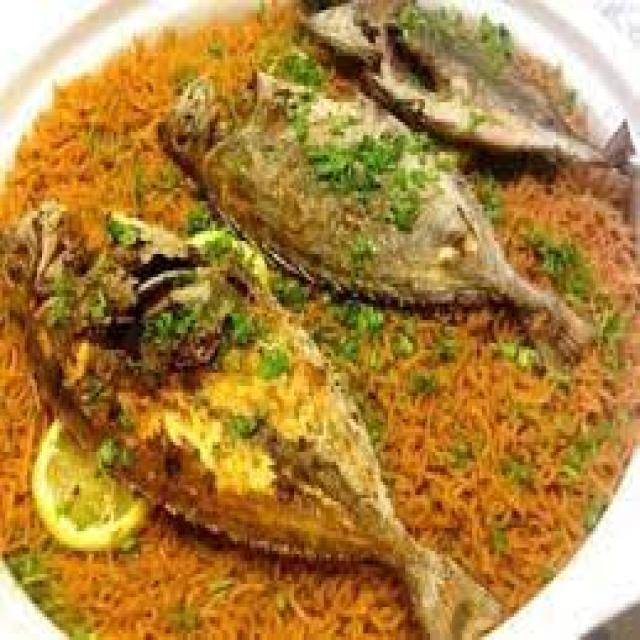Peixe: (0, 0, 638, 637), (155, 53, 596, 366), (292, 0, 635, 172)
